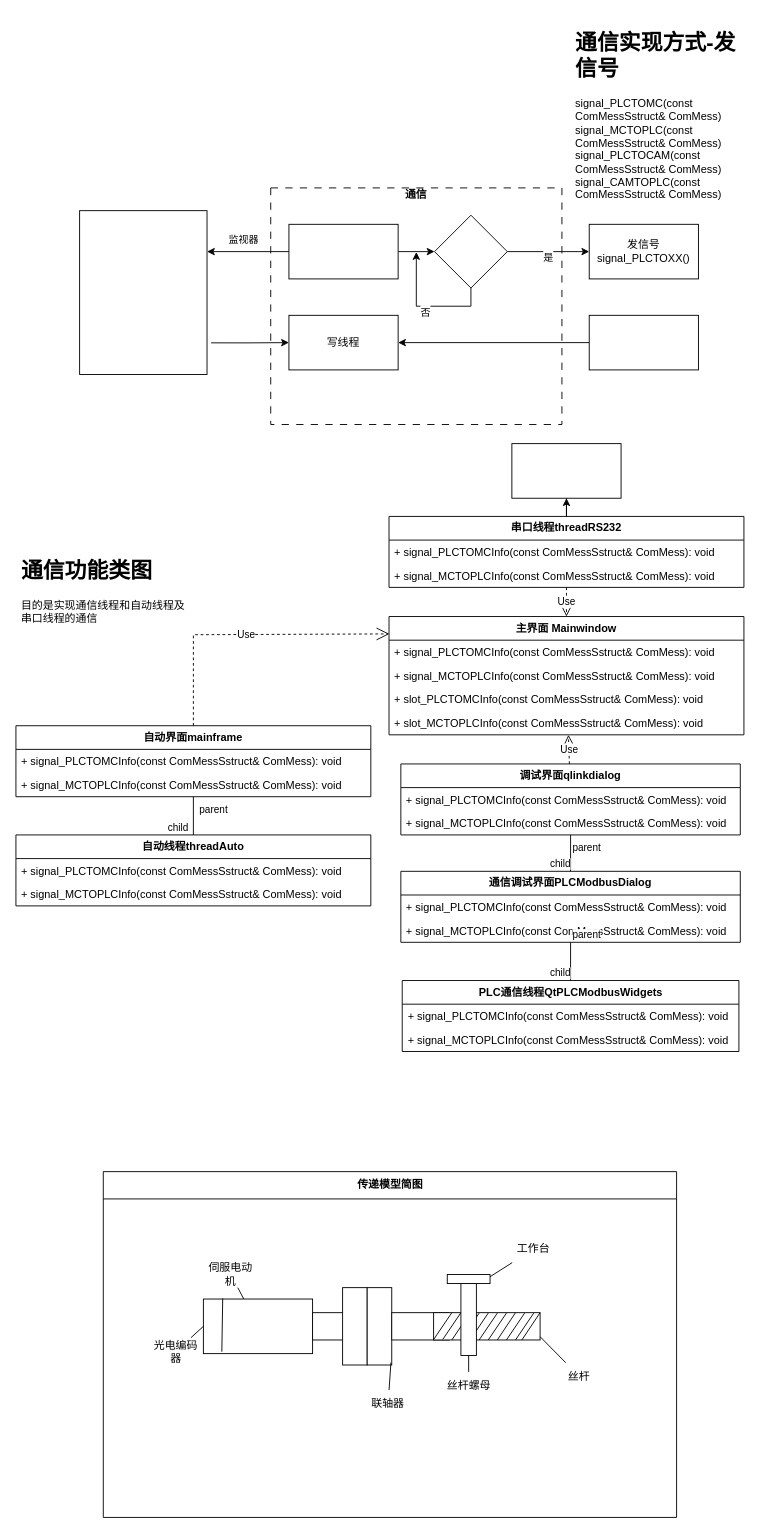
Some shapes in this 760 by 1533 pixel diagram are drawn without their labels. The shapes that lost their labels are listed below. From the top down, each one's centre as x and y in pixels, then its label:
At point (343, 251): "读线程".
At point (470, 251): "数据变化？".
At point (143, 292): "KepServer".
At point (643, 342): "发信号signal_XXTOPLC()".
At point (566, 470): "相机".
At point (257, 1326): "PMSM".
